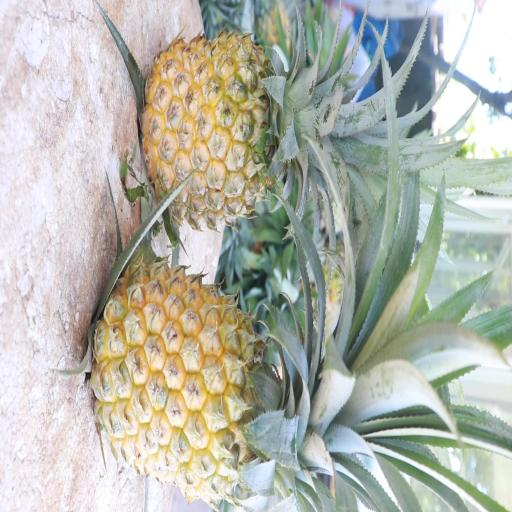Pineapple - v8 v1: (85, 249, 401, 506), (136, 27, 372, 239)
